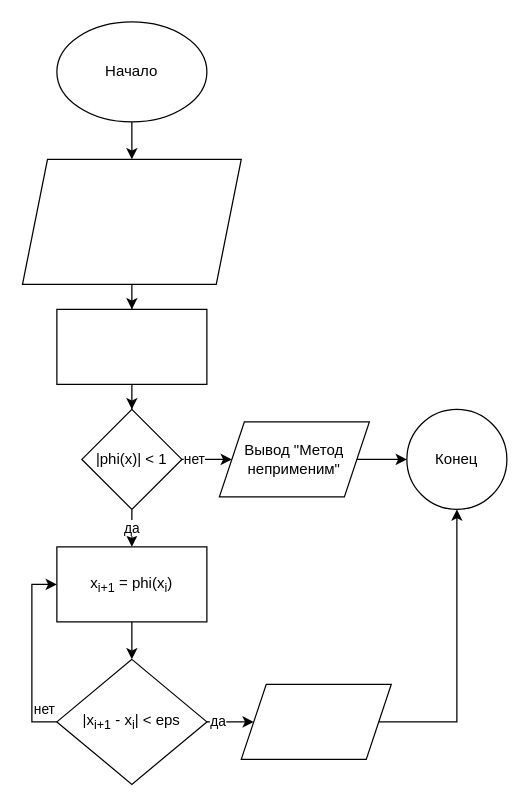
Some shapes in this 529 by 806 pixel diagram are drawn without their labels. Each missing label, with the box of its shape:
Ввод концов отрезка и первого приближения x 0: (21, 158, 241, 284)
Вывод x: (240, 683, 391, 759)
Преобразование в x = phi(x): (56, 308, 207, 384)
